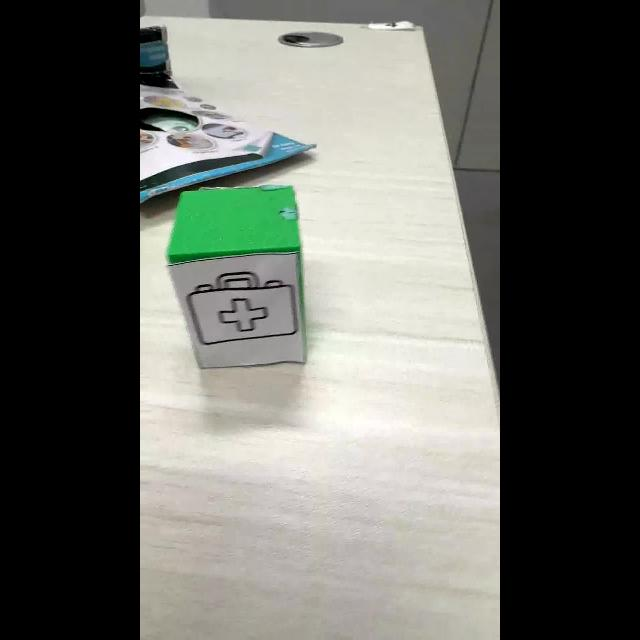Medkit: (187, 272, 297, 345)
